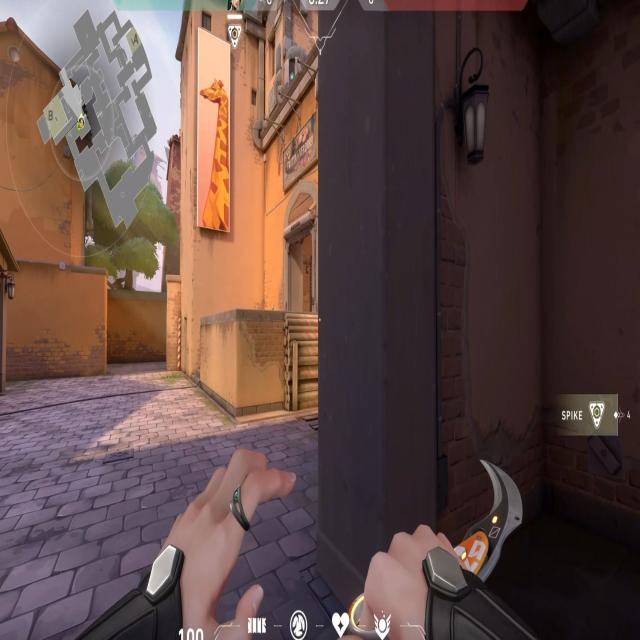B_Cubby: (230, 301, 316, 417)
B_Garage_Right: (0, 269, 13, 396)
